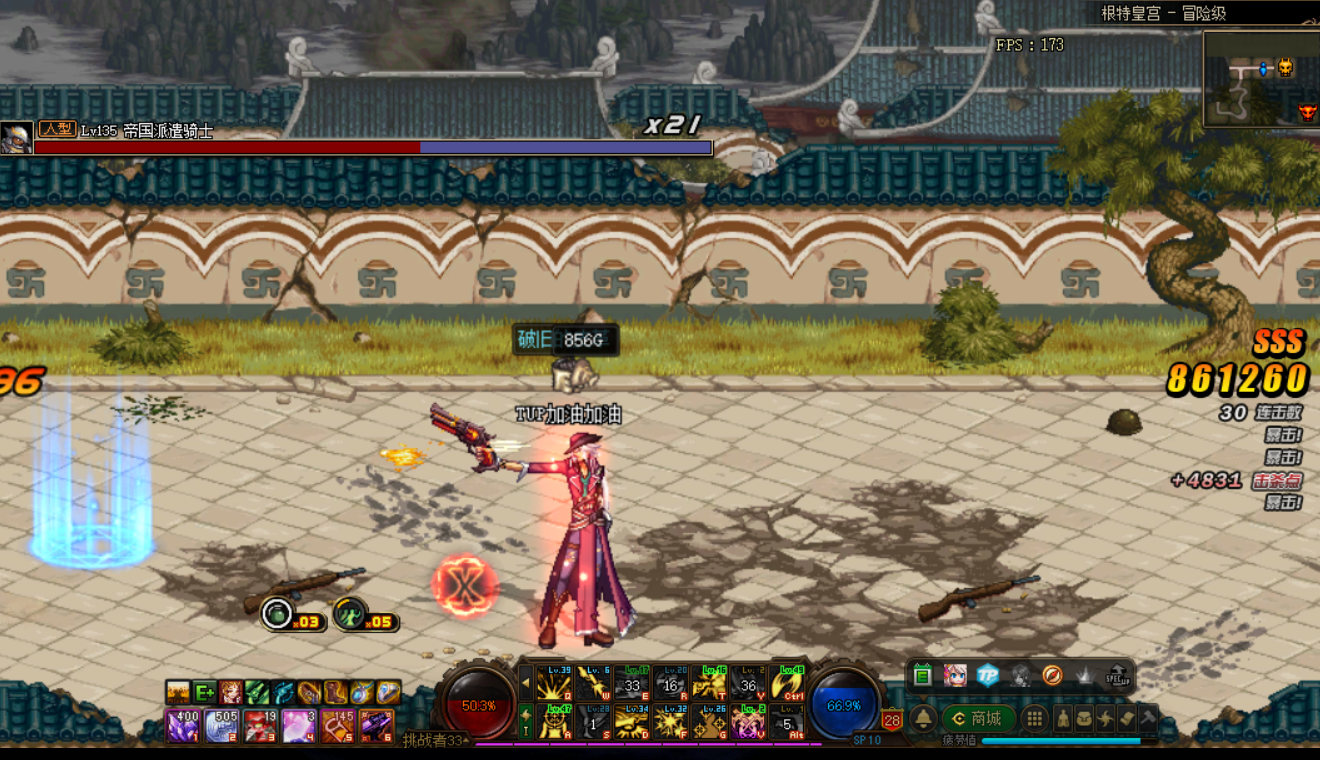warrior: (430, 404, 652, 653)
